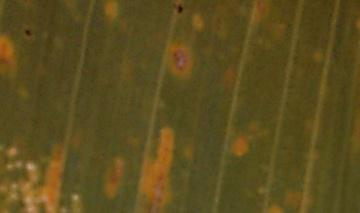tarspot: (24, 28, 33, 37), (178, 5, 184, 14)
